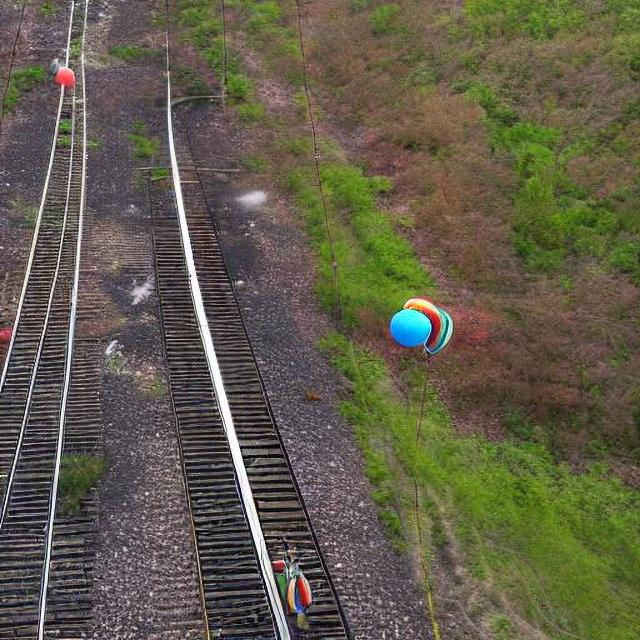balloon: (385, 295, 453, 355)
floating object: (388, 296, 452, 354)
plastic bag: (273, 558, 313, 626), (49, 64, 76, 90)
